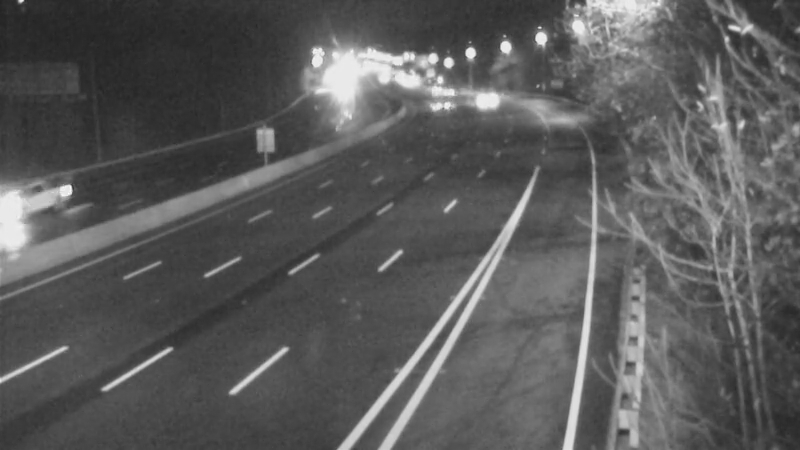vehicle: (1, 170, 68, 250), (455, 79, 505, 129), (418, 78, 468, 128)
